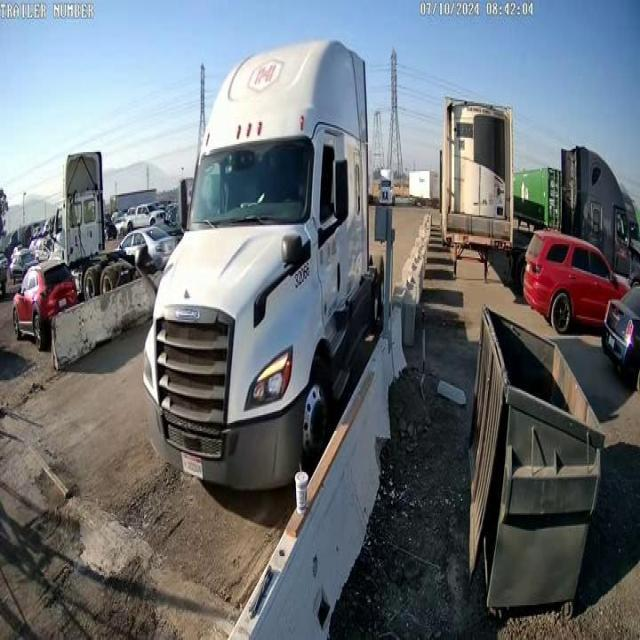TRUCK_OUT: (142, 38, 380, 494)
